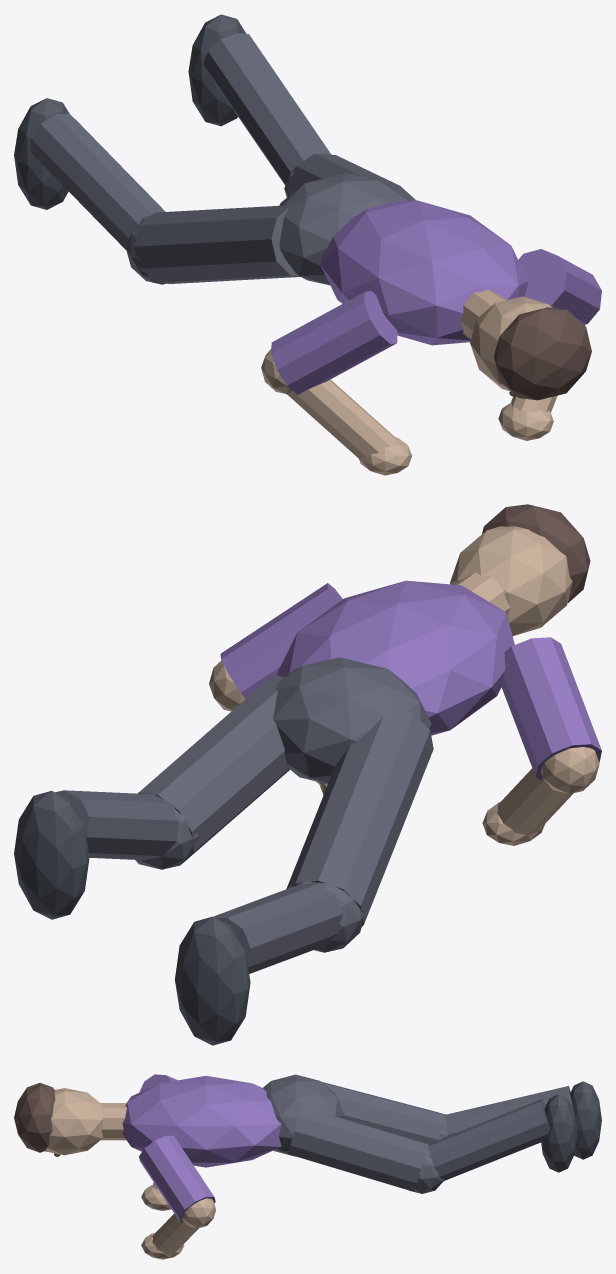
3 views of the same model, one above another, from view 1: azimuth 30°, elevation 25°; view 2: azimuth 150°, elevation 25°; view 3: azimuth 270°, elevation 25° (orthographic). The views are drawn at different scales.
Visible parts, largest first — view 1: world; view 2: world; view 3: world.
Part boxes in pixels (x1,y1,x2,y2): world: (14,14,601,475); world: (14,504,601,1045); world: (14,1074,601,1259).
Size of the model in its own units: 0.93 by 0.5928 by 2.04.
